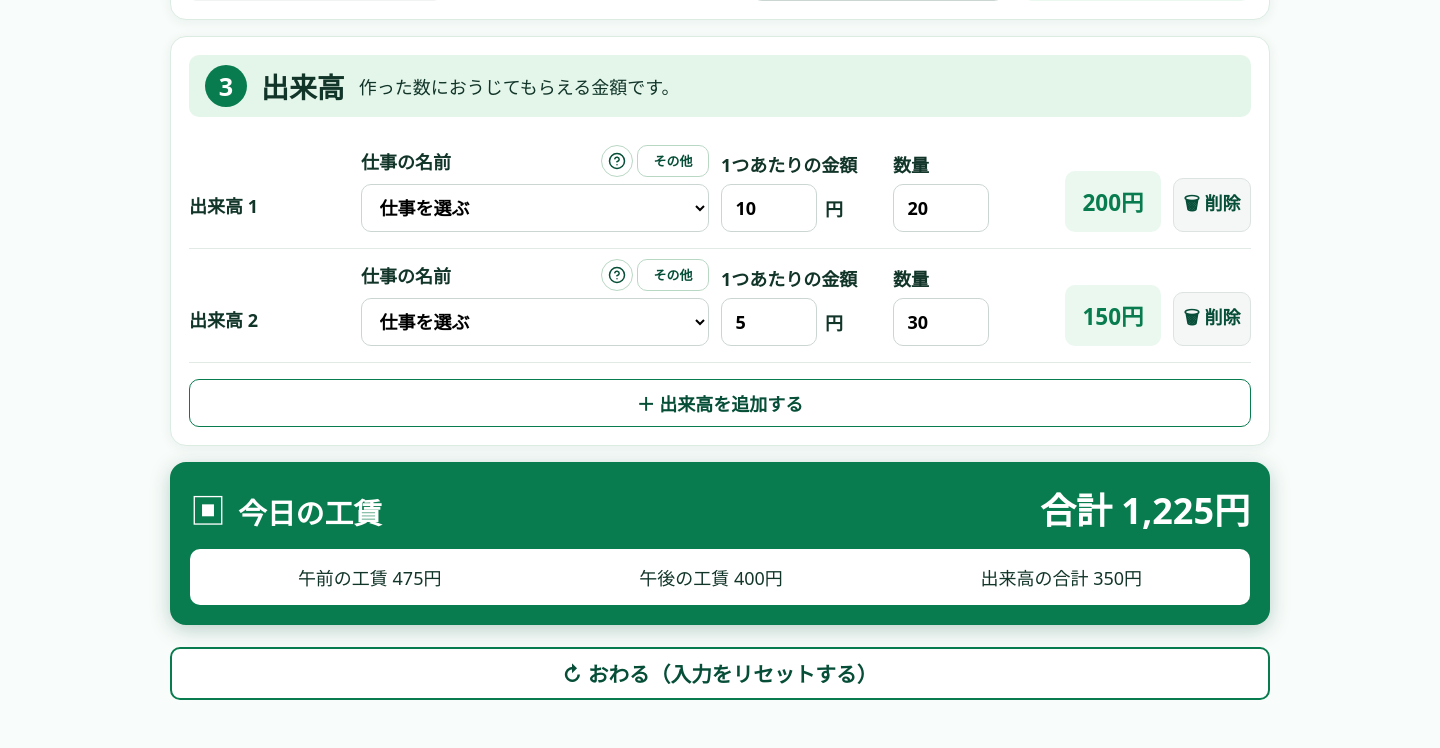
Test: 工賃シミュレーター › 出来高を追加して削除できる
The image size is (1440, 748).
(page scrolled)
Step 1. Click the button "＋ 出来高を追加する" → (720, 402), box x1=189 y1=378 x2=1251 y2=426
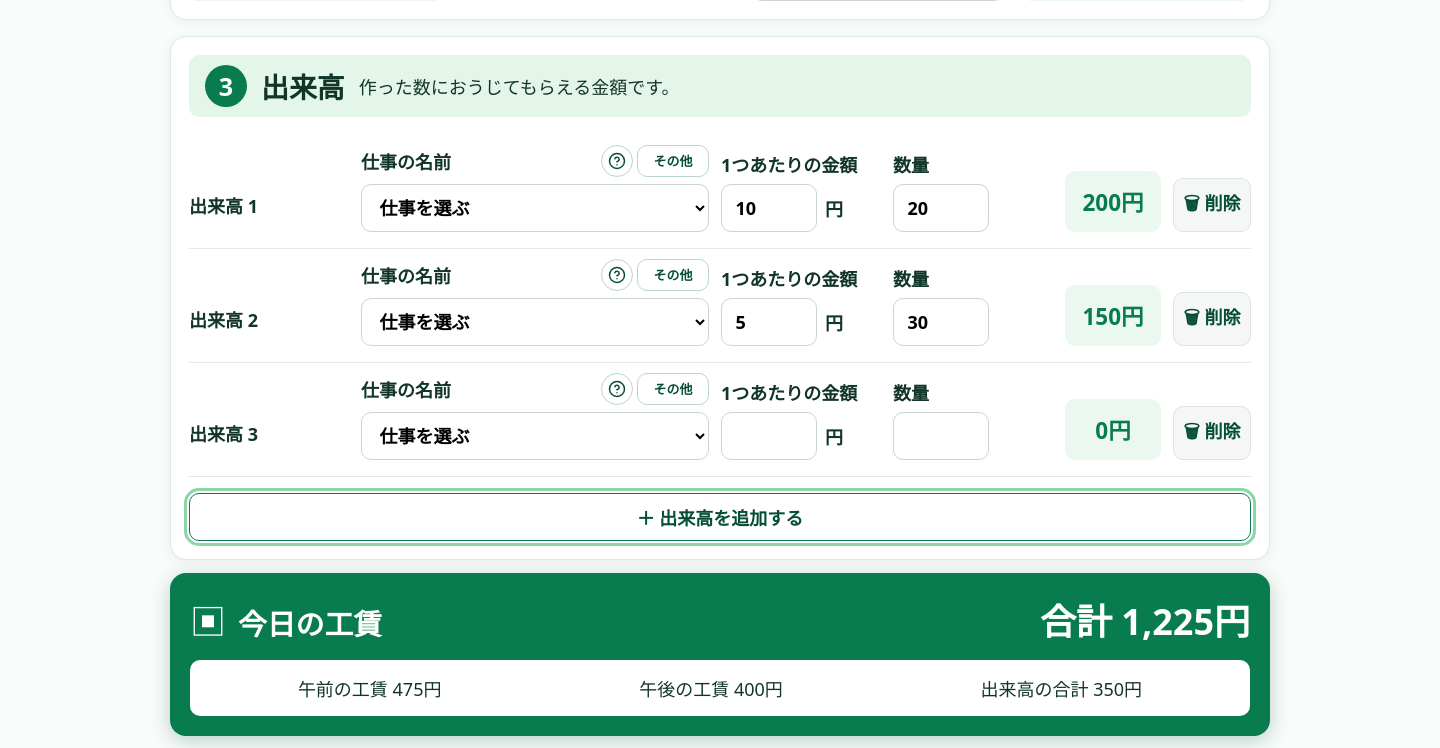
Expected: the dropdown named "出来高3の名前" is shown, x1=361 y1=412 x2=709 y2=460
Step 2. Click the button with aria-label "出来高3を削除" → (1212, 433), box x1=1173 y1=406 x2=1251 y2=460
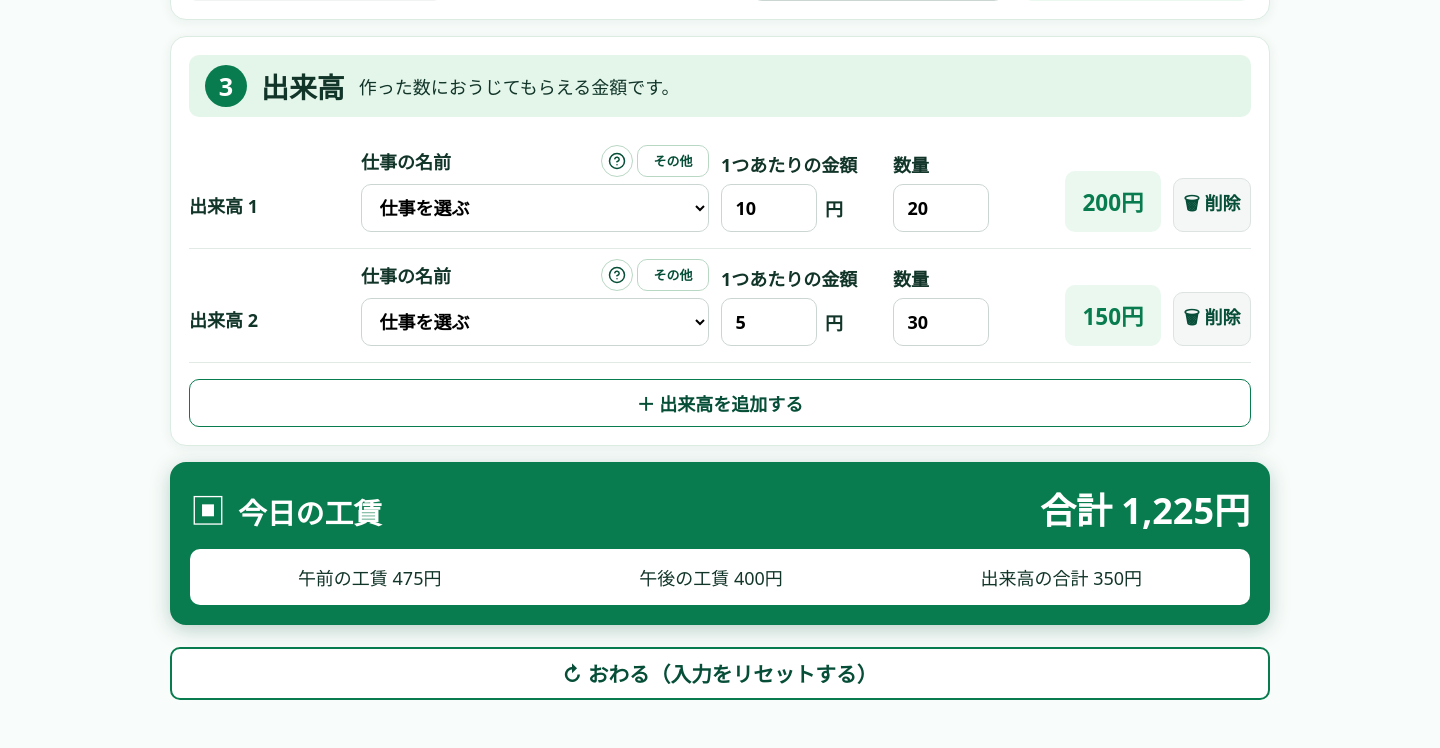
Expected: the dropdown labelled "出来高3の名前" is gone
